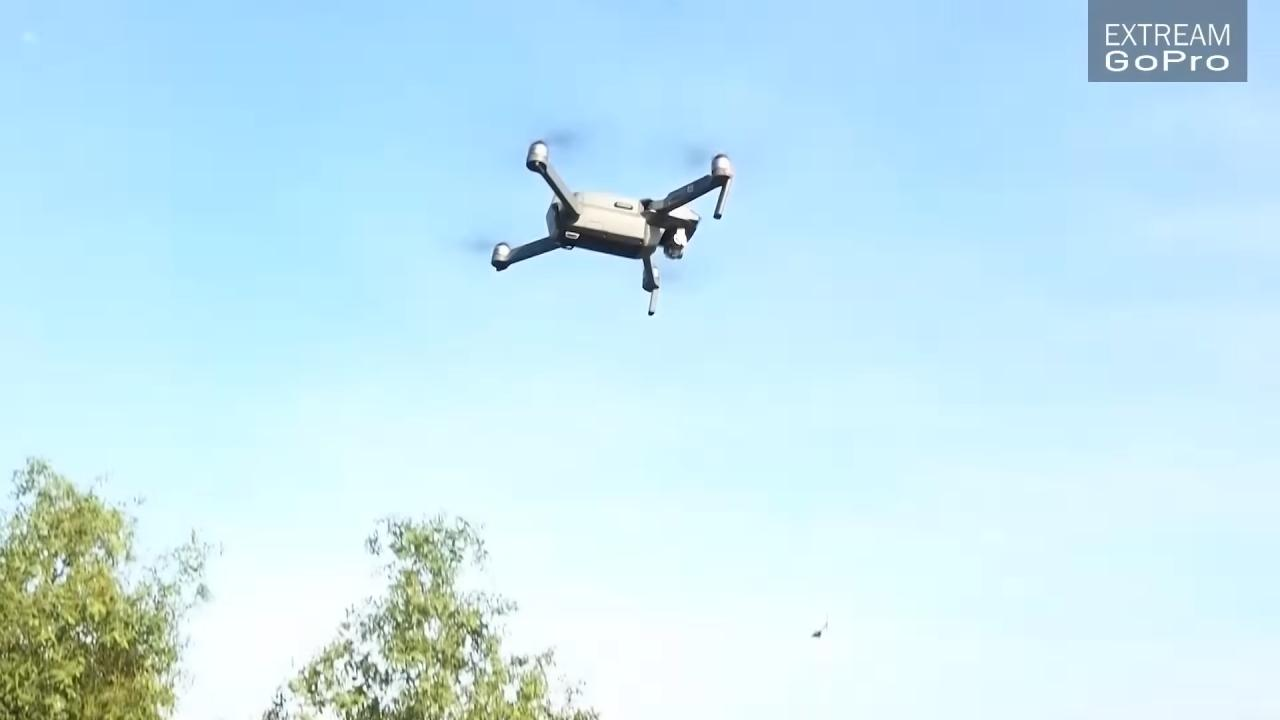Drone: (467, 116, 744, 325)
